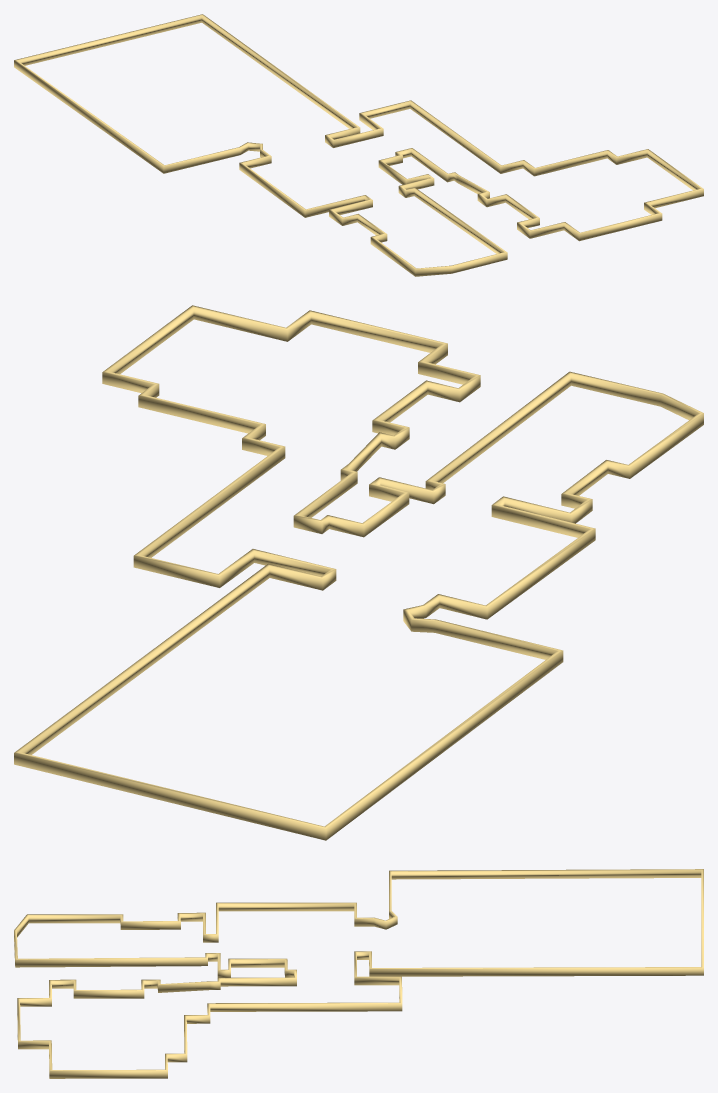
Rendered from Home1.dae.
The picture shows the model from 3 angles, top to bottom: view 1: azimuth 30°, elevation 25°; view 2: azimuth 150°, elevation 25°; view 3: azimuth 270°, elevation 25°; orthographic projection. The views are drawn at different scales.
Visible parts, largest first — view 1: Home1; view 2: Home1; view 3: Home1.
Boxes of the visible parts, box(x1,y1,x2,y2) form: Home1: box(14, 14, 703, 276); Home1: box(14, 305, 703, 840); Home1: box(14, 869, 703, 1078).
Size of the model in its own units: 8.55 by 12.33 by 0.15.
